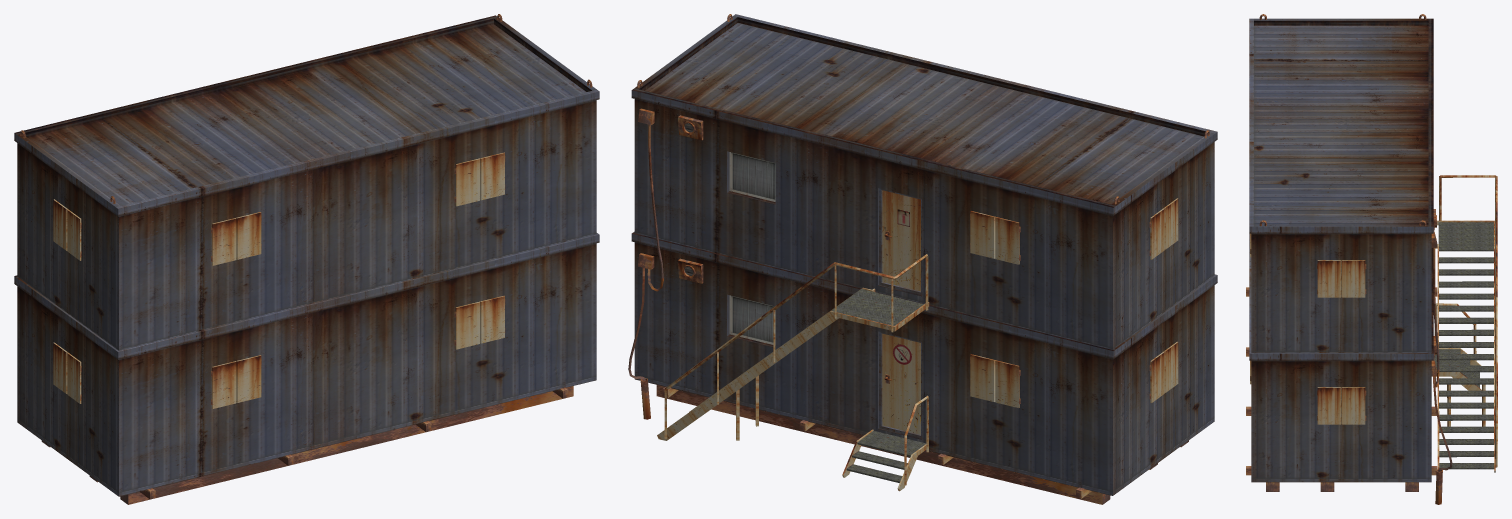
Rendered from container_1.FBX.
3 views of the same model, side by side, from view 1: azimuth 30°, elevation 25°; view 2: azimuth 150°, elevation 25°; view 3: azimuth 270°, elevation 25° (orthographic). The views are drawn at different scales.
Parts seen in each view (by area): view 1: Mesh Object; view 2: Mesh Object; view 3: Mesh Object.
Part boxes in pixels (<box>): Mesh Object: <box>14,14,599,504</box>; Mesh Object: <box>628,14,1217,504</box>; Mesh Object: <box>1246,14,1497,504</box>.
Bounding box in the file's own units: 10.88 × 7.07 × 5.56.
